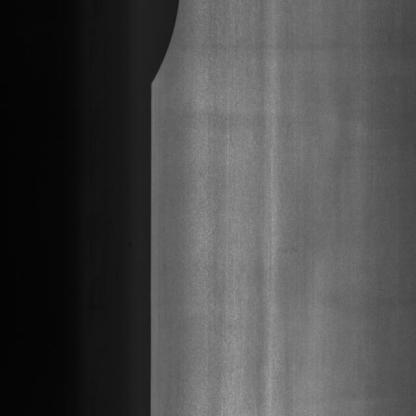crescent_gap: (137, 0, 180, 86)
